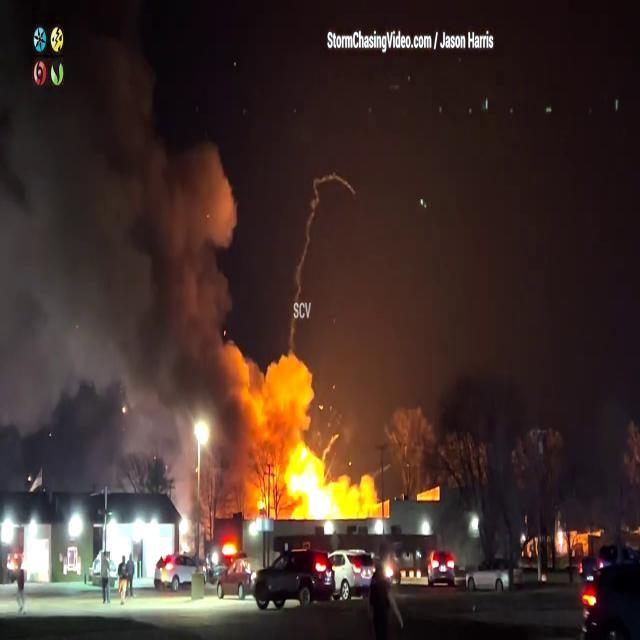Fire: (272, 438, 382, 524)
Smoke: (0, 4, 318, 500)
